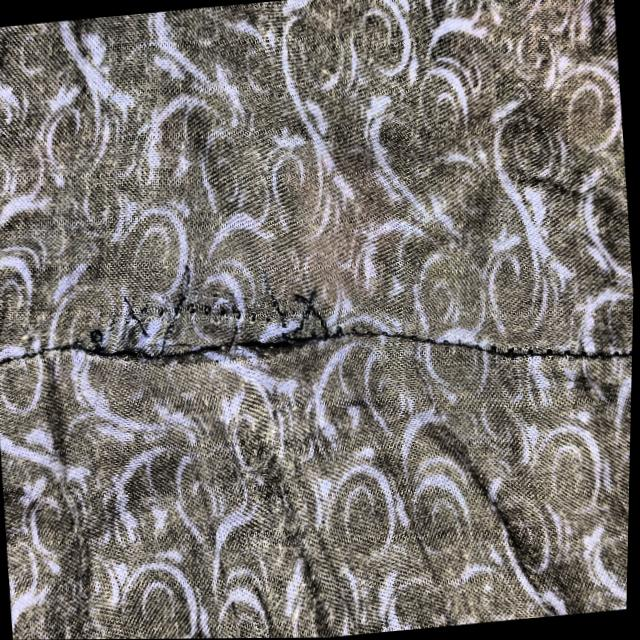seam: (50, 239, 383, 458)
